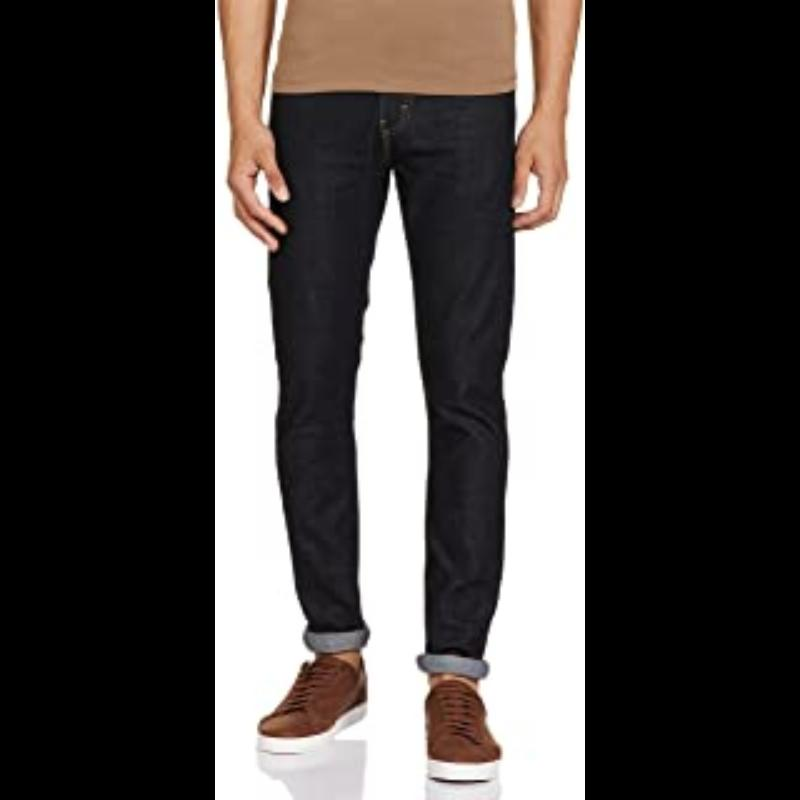Jeans: (263, 103, 531, 684)
Tshirt: (269, 0, 521, 102)
